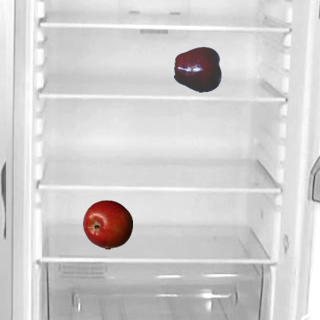Apple Braeburn: (82, 199, 132, 249)
Apple Red Delicious: (173, 44, 223, 94)
